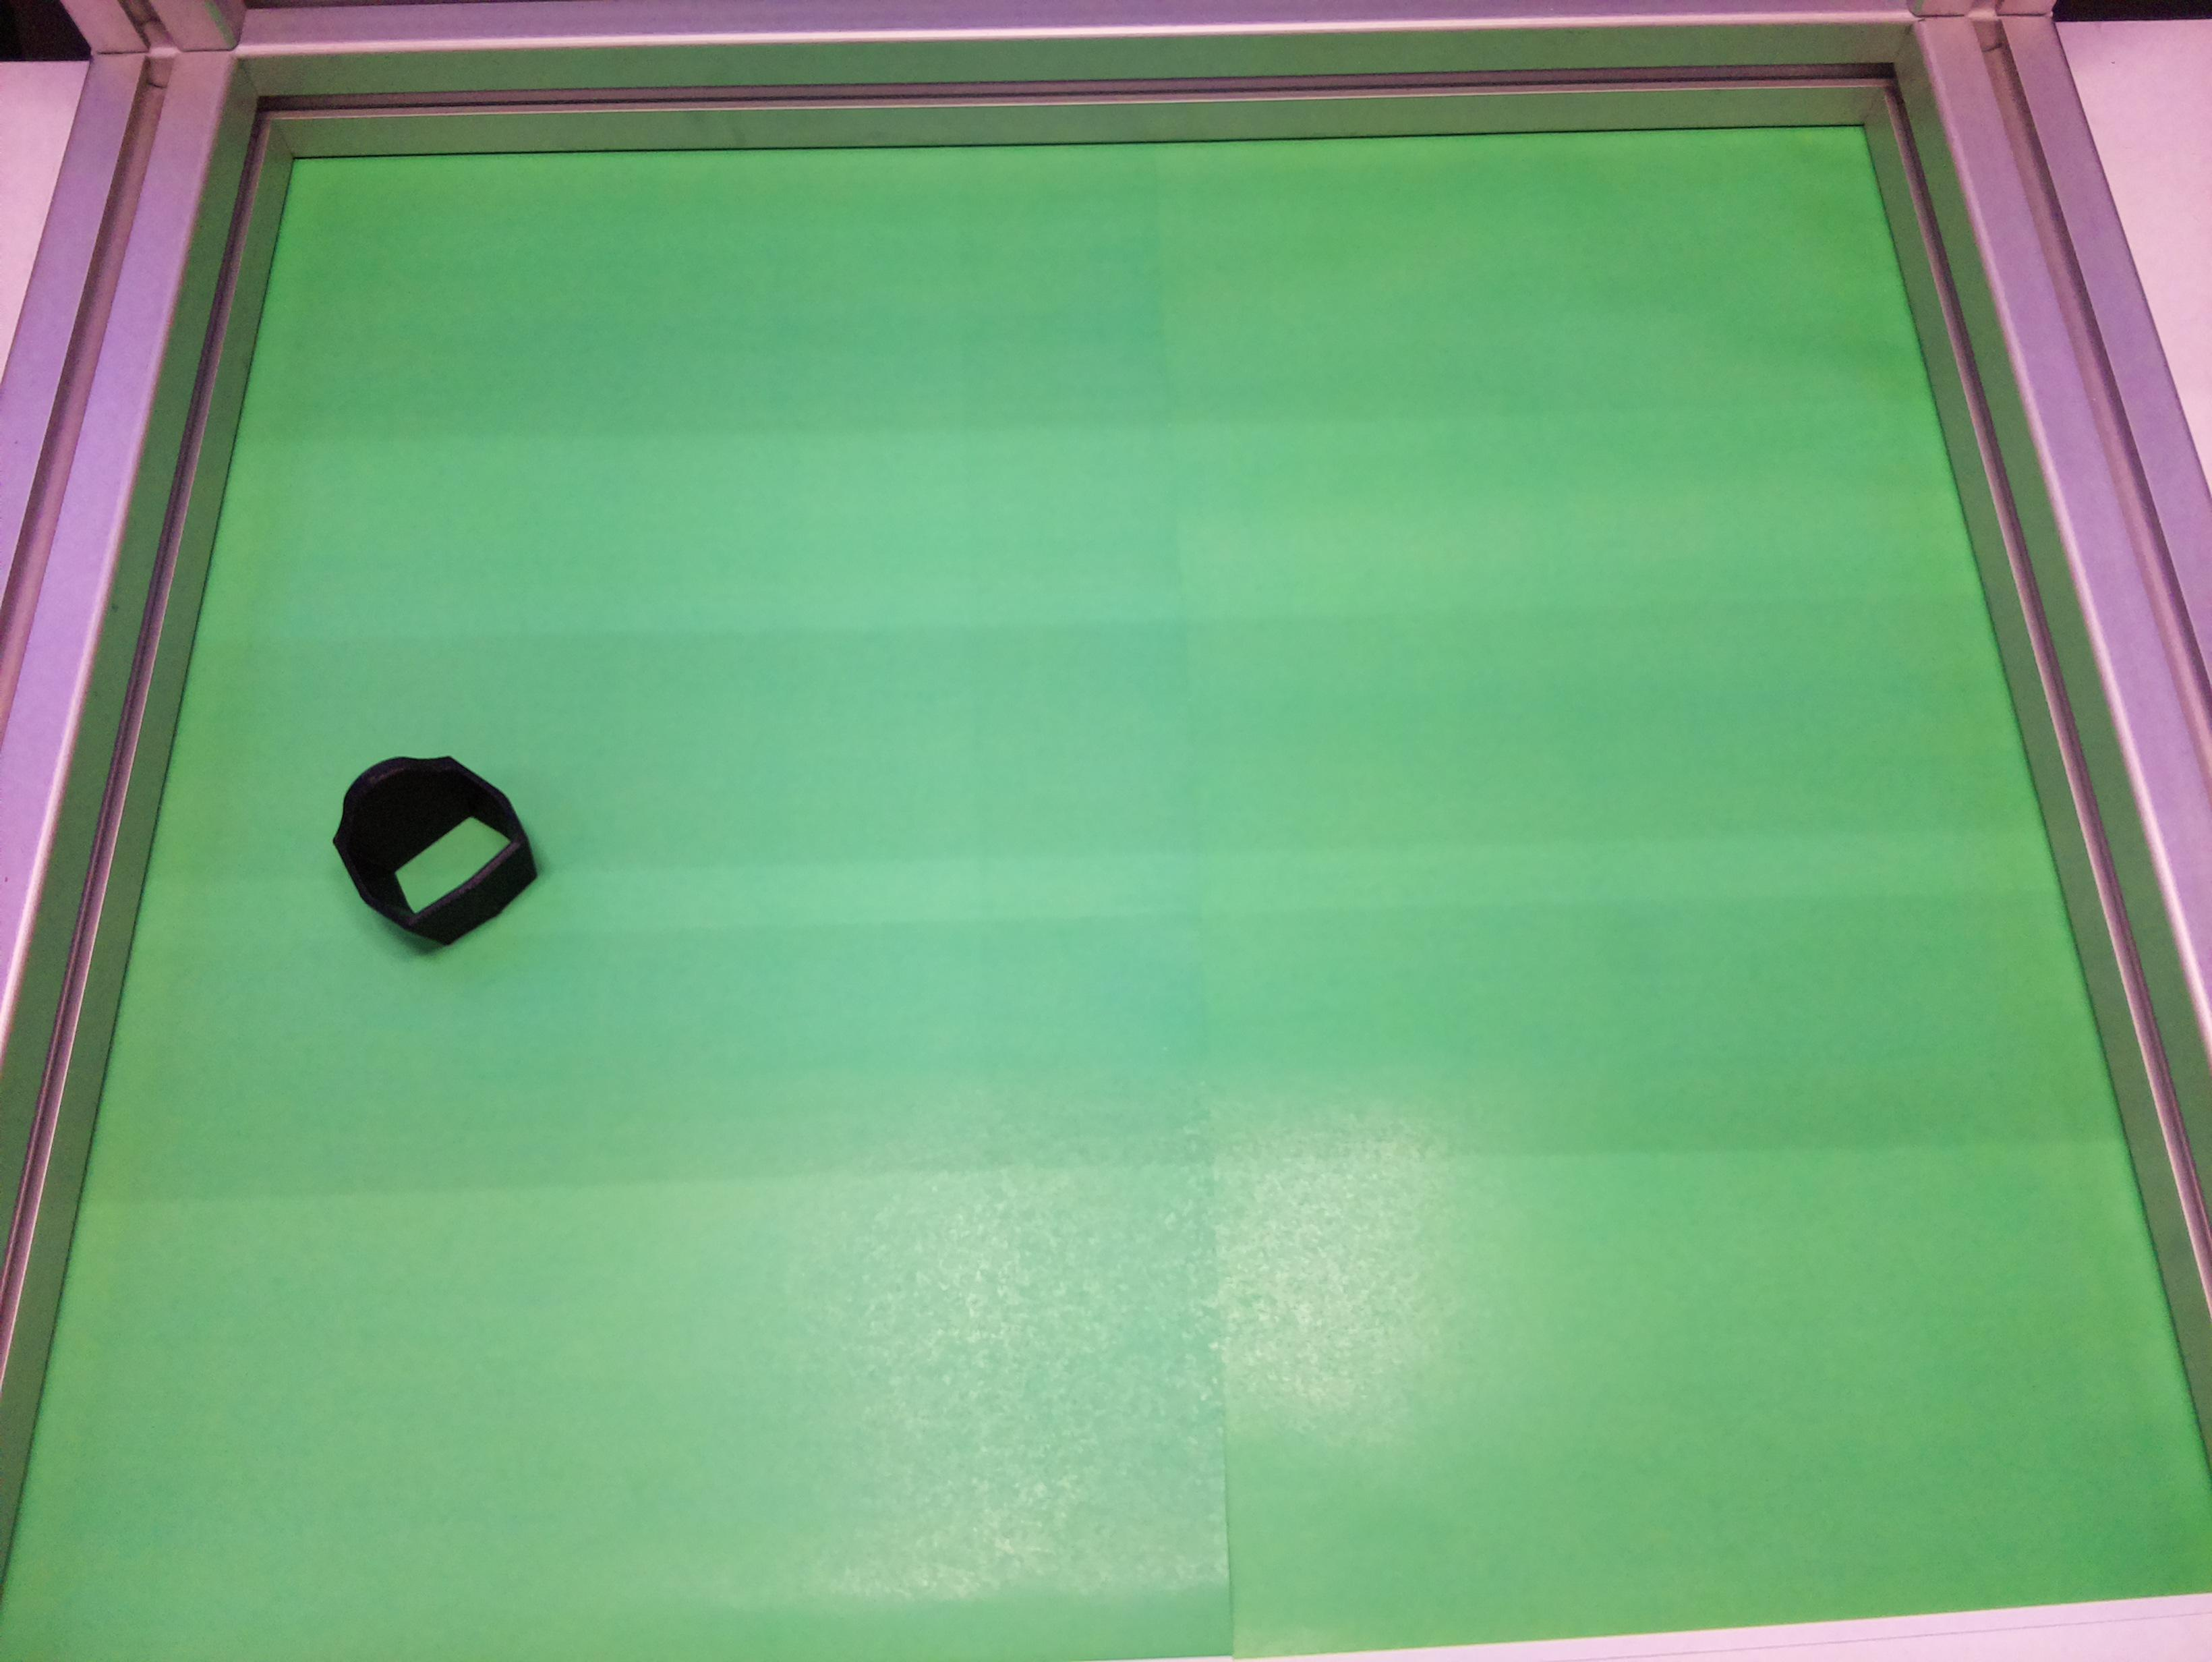scissor_holder: (306, 716, 557, 971)
